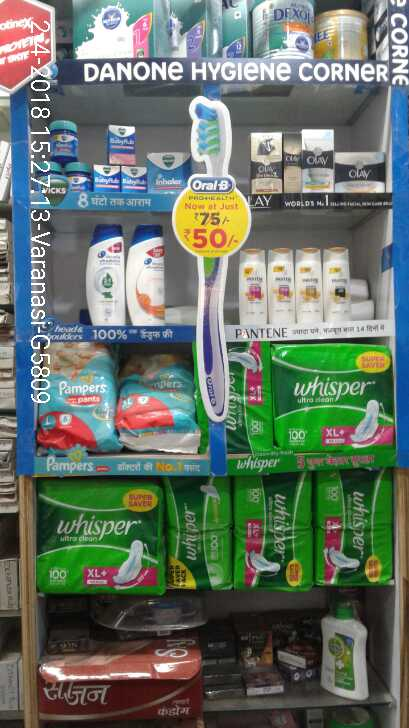vicks: (36, 117, 193, 191)
